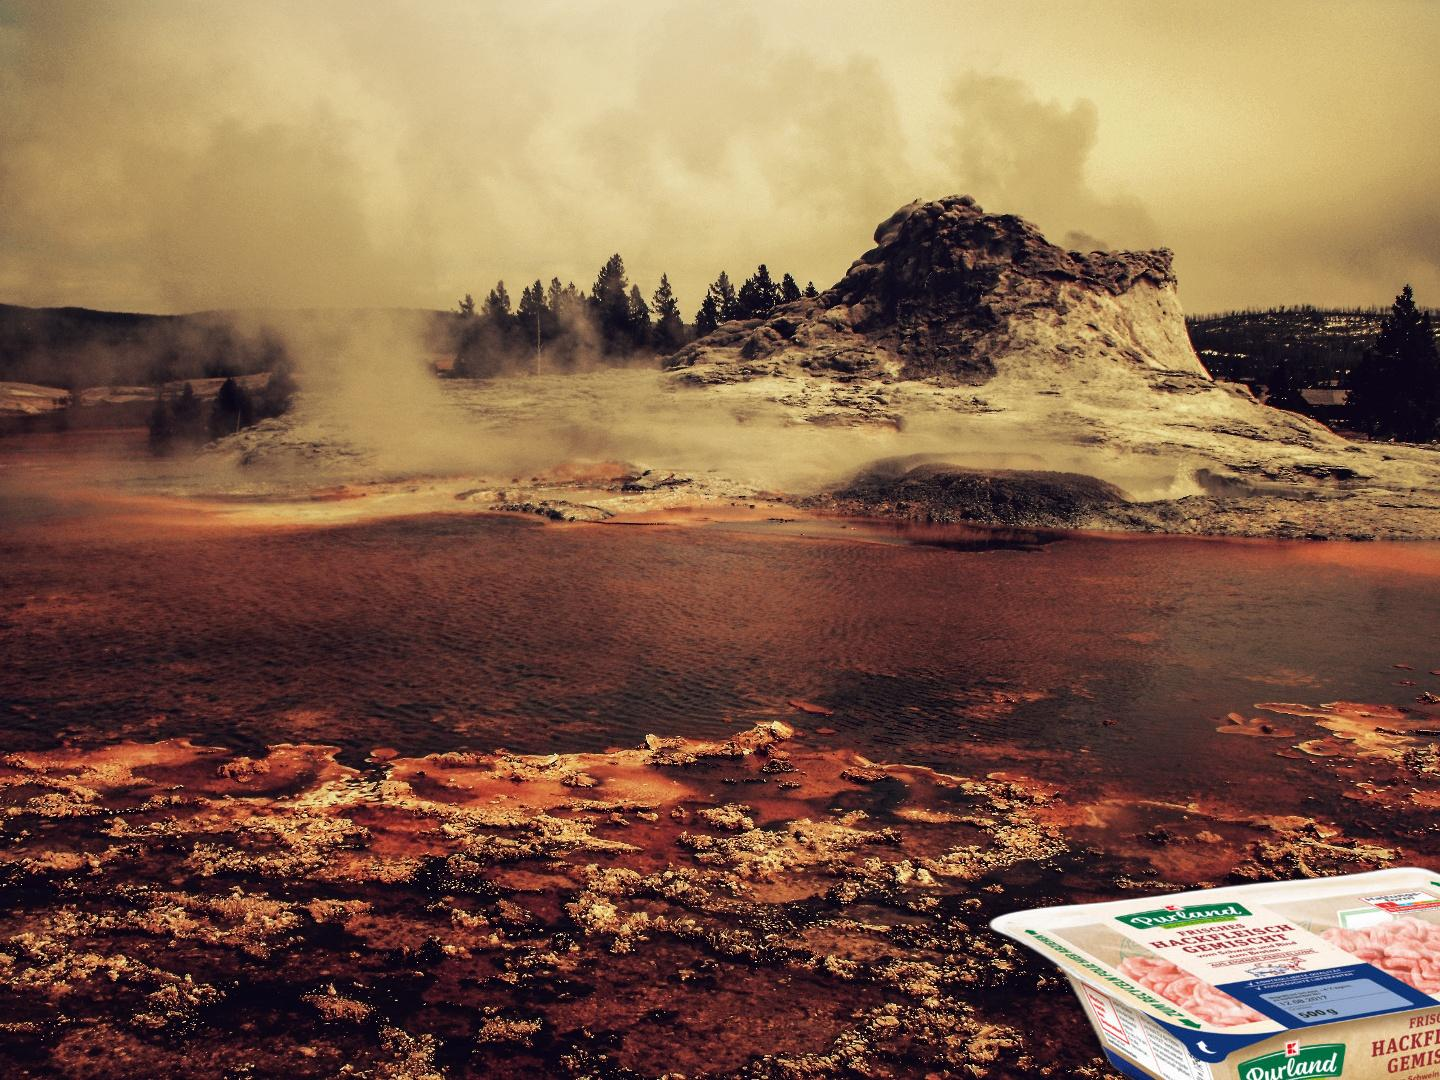trashbox-cardboard: (981, 864, 1440, 1080)
